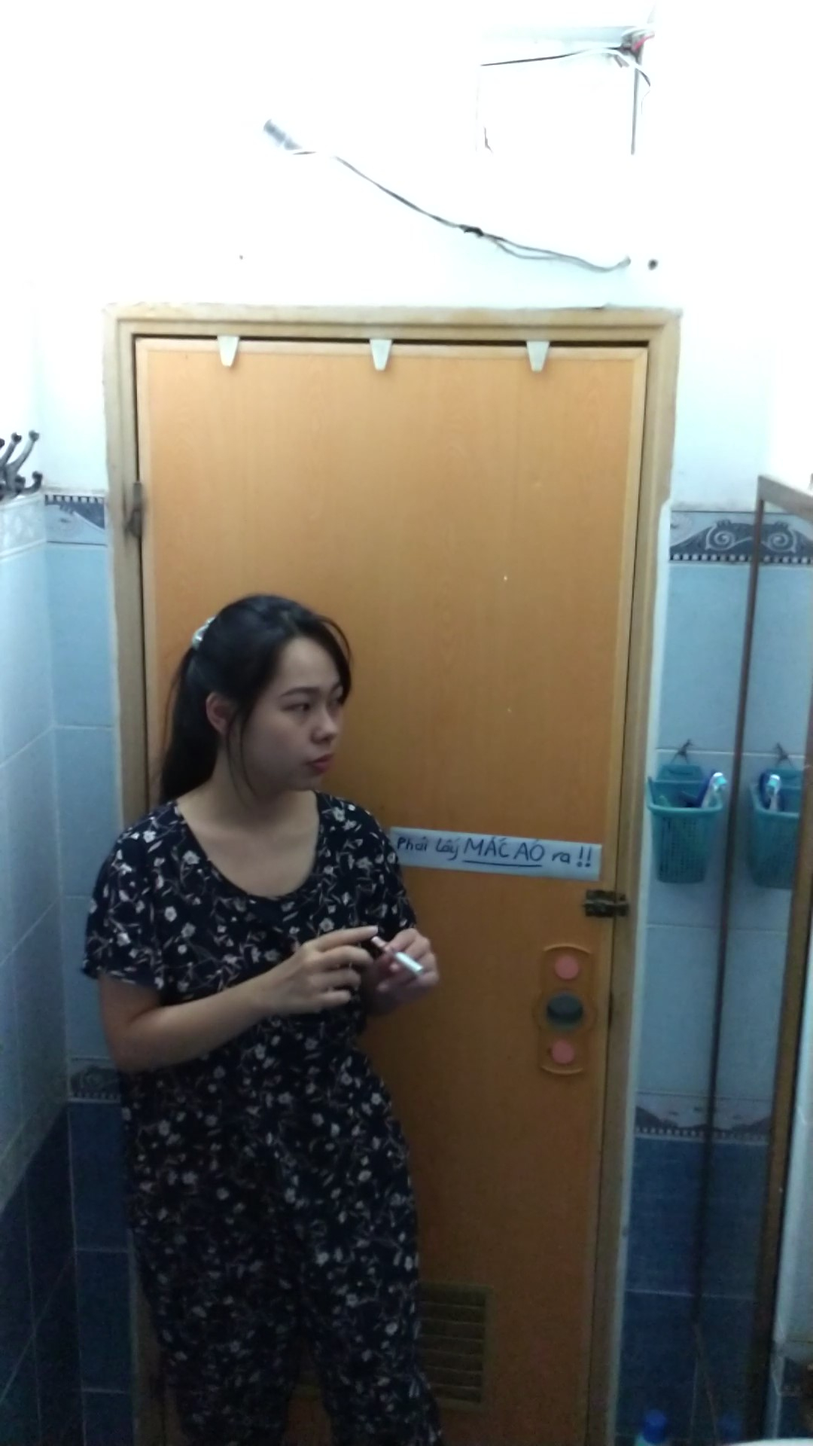cigarette: (389, 947, 430, 982)
person: (80, 589, 449, 1446)
